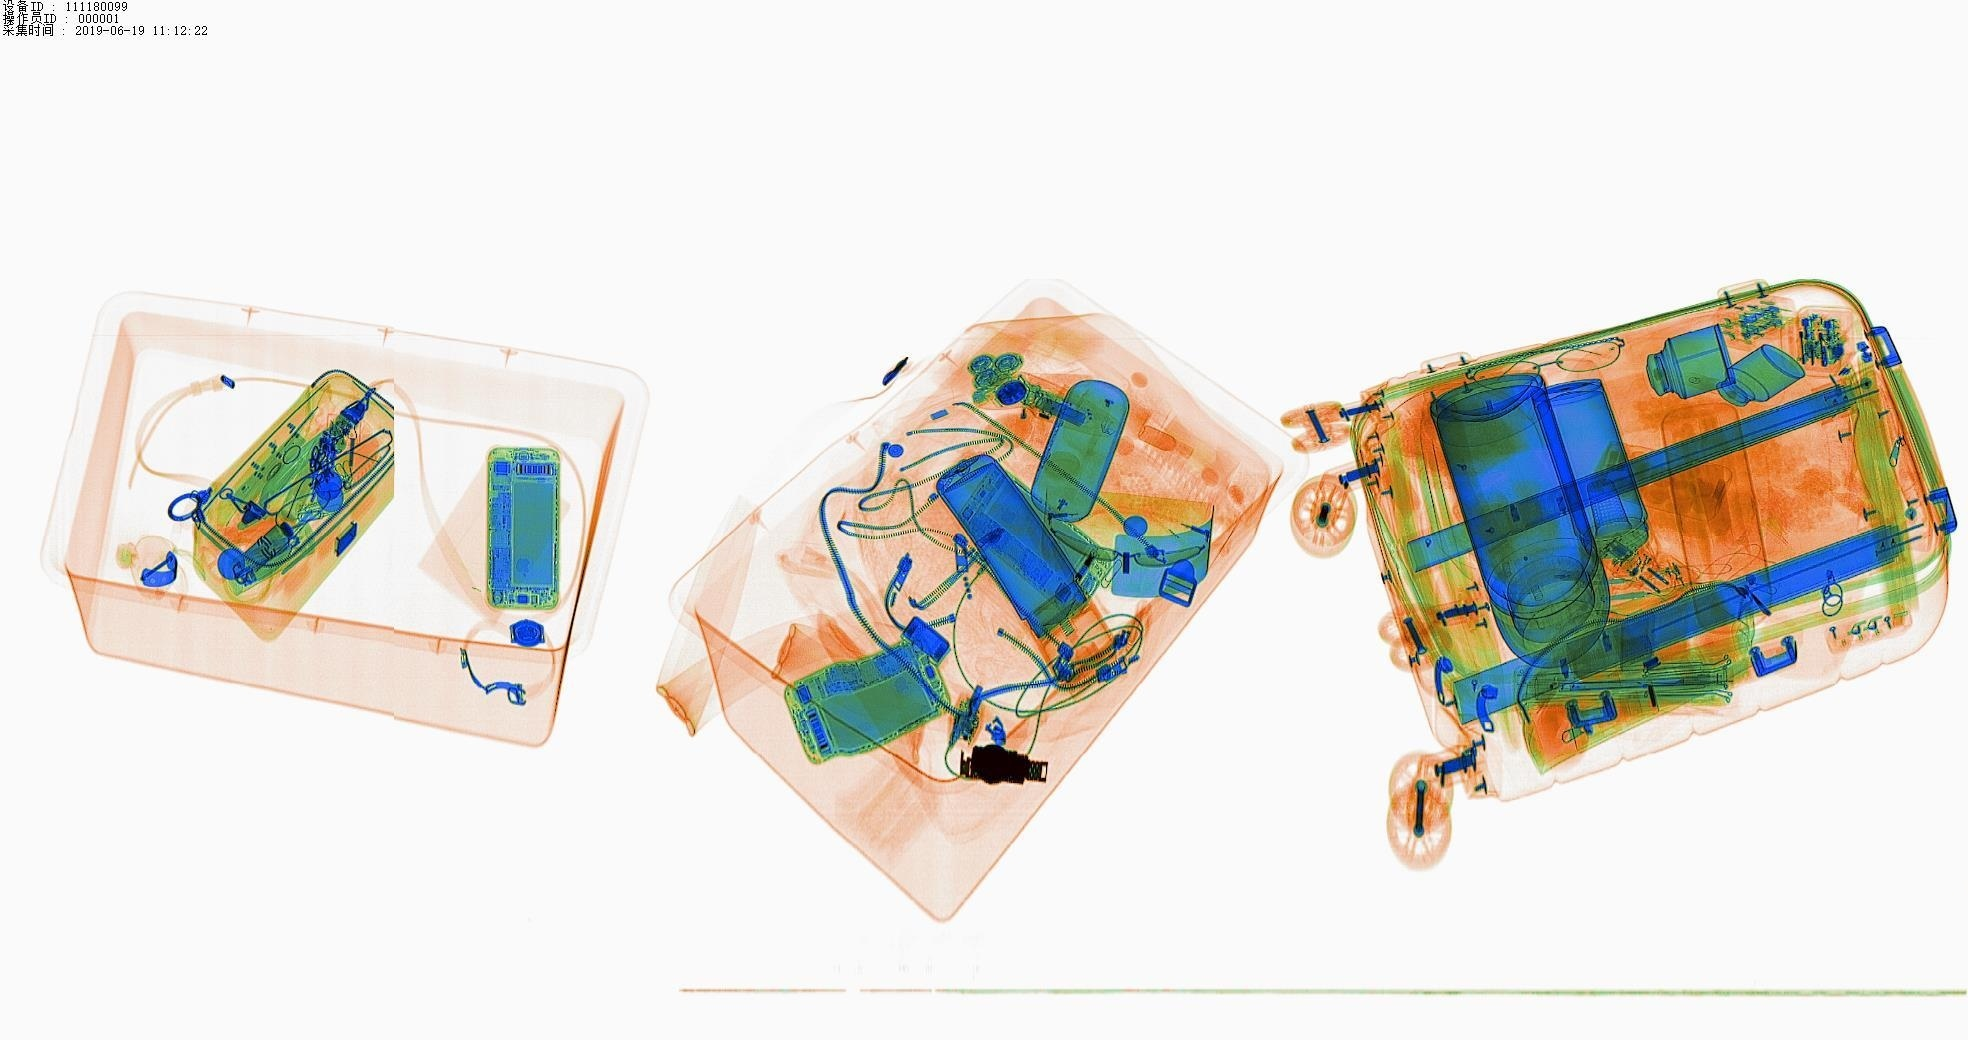NonmetallicFire: (1007, 372, 1046, 453)
